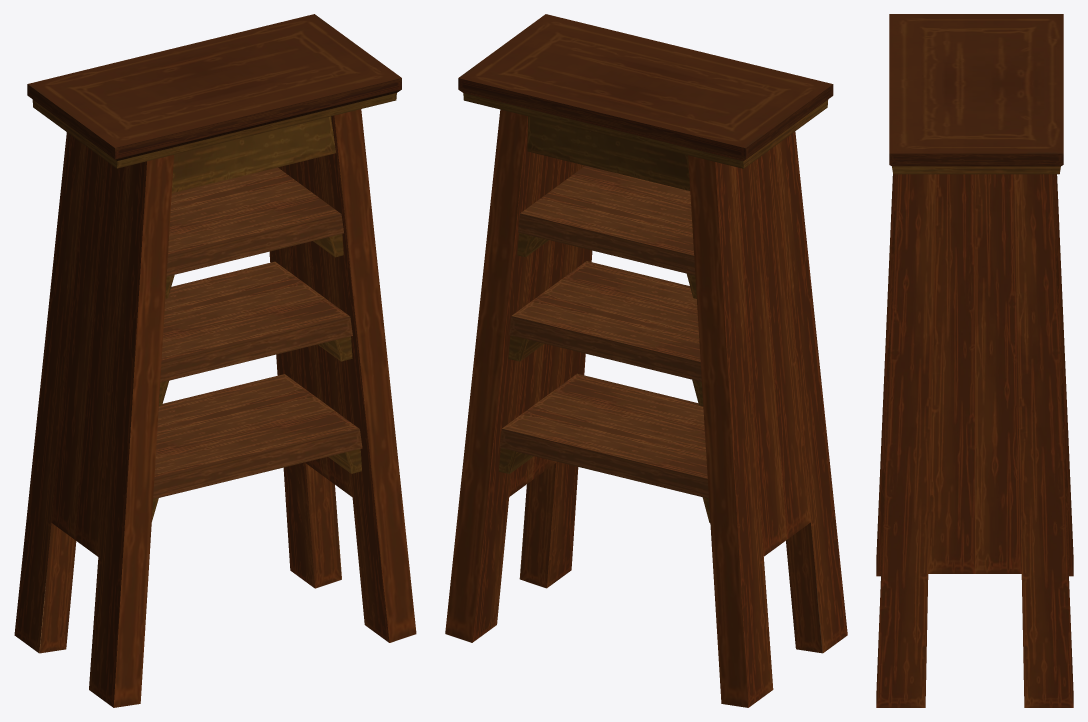
File: Nightstand_Shelf.glb
3 renders of one model, left to right at view 1: azimuth 30°, elevation 25°; view 2: azimuth 150°, elevation 25°; view 3: azimuth 270°, elevation 25°, orthographic.
Parts seen in each view (by area): view 1: Nightstand_Shelf; view 2: Nightstand_Shelf; view 3: Nightstand_Shelf.
Boxes of the visible parts, <box> form: Nightstand_Shelf: <box>14,14,416,707</box>; Nightstand_Shelf: <box>445,14,847,707</box>; Nightstand_Shelf: <box>876,14,1073,707</box>.
Bounding box in the file's own units: 0.6934 × 1.22 × 0.3934.
Materials: 1 (1 with a texture image).
